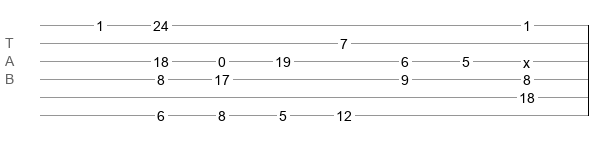0: (218, 54, 226, 64)
1: (96, 18, 104, 28), (523, 18, 531, 28)
12: (336, 108, 352, 118)
17: (214, 72, 230, 82)
18: (153, 54, 169, 64), (519, 90, 535, 100)
19: (275, 54, 291, 64)
24: (153, 18, 169, 28)
5: (279, 108, 287, 118), (462, 54, 470, 64)
6: (157, 108, 165, 118), (401, 54, 409, 64)
7: (340, 36, 348, 46)
8: (157, 72, 165, 82), (218, 108, 226, 118), (523, 72, 531, 82)
9: (401, 72, 409, 82)
x: (523, 55, 530, 63)
